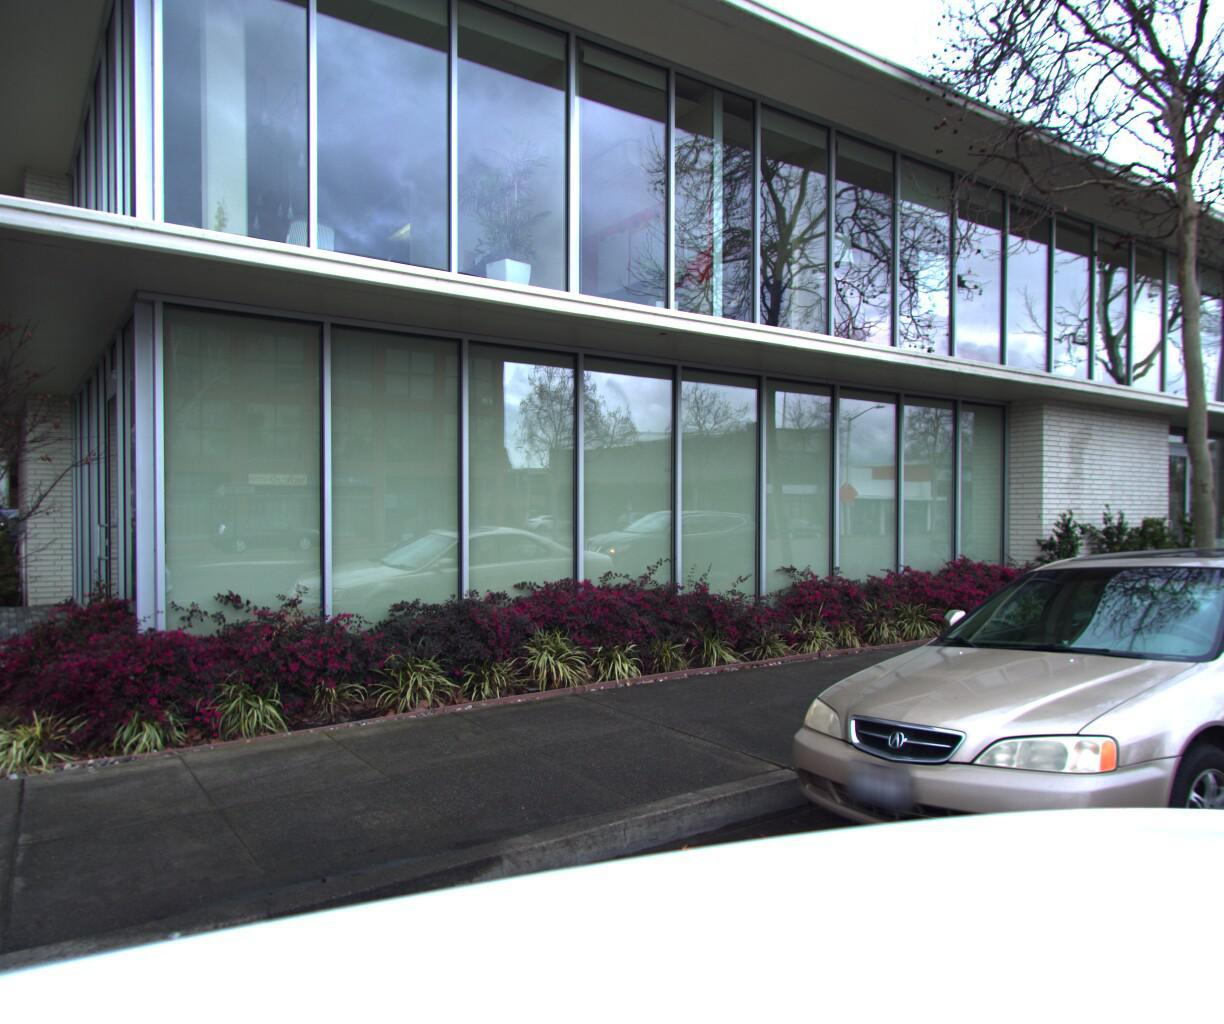car: (727, 529, 1224, 1002)
